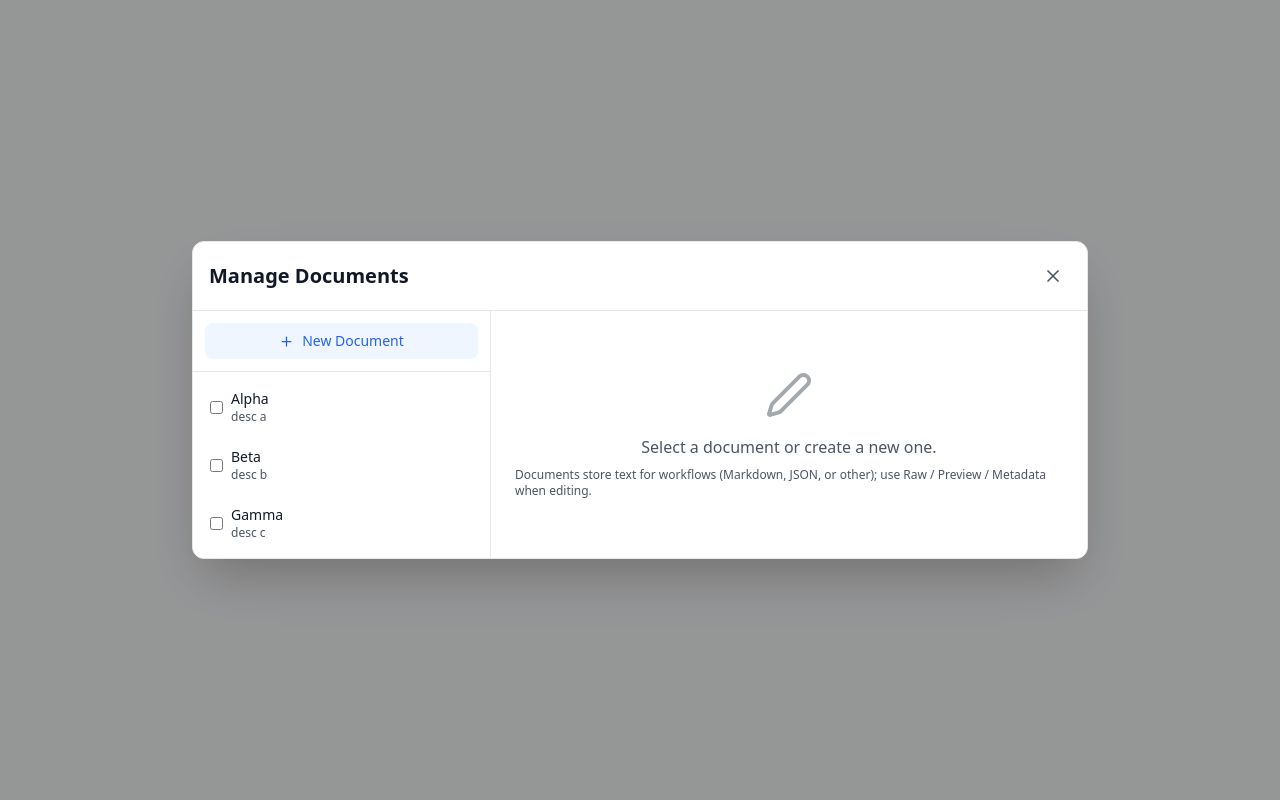
it: DocumentManager › plain row click selects one document and shows its name in the editor
This screenshot has width=1280, height=800.
Expected: the text "Alpha" is shown, [231,389,269,409]
Click the text "Beta".
click(246, 456)  # box [231,447,261,466]
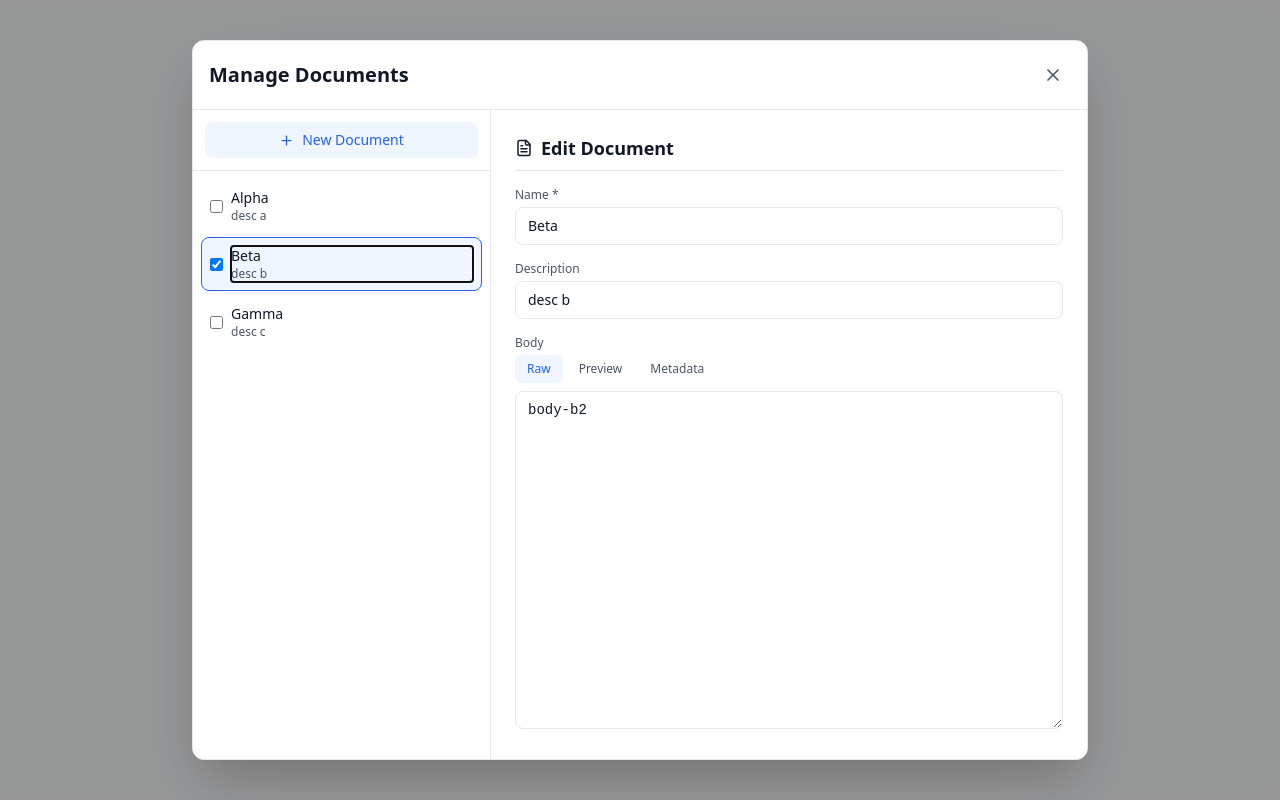
Result: the field showing "Beta" below "Name *" is shown at [515,207,1063,245]
Result: the field showing "desc b" below "Description" is shown at [515,281,1063,319]
